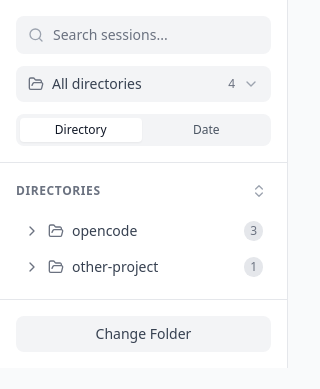
Test: SessionBrowser › search input › auto-expands groups when searching
The width and height of the screenshot is (320, 389).
Expected: the text "Implement feature X" is not shown
Note: Search for a session
Type "feature" into the field with placeholder "Search sessions..." at (144, 35), box [16,16,271,54]
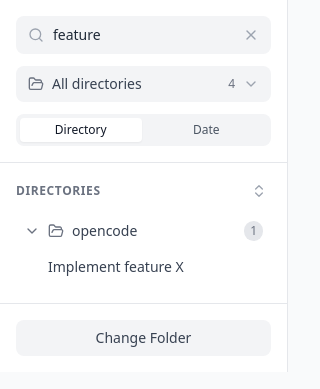
Result: the text "Implement feature X" is shown at [48,257,184,276]
